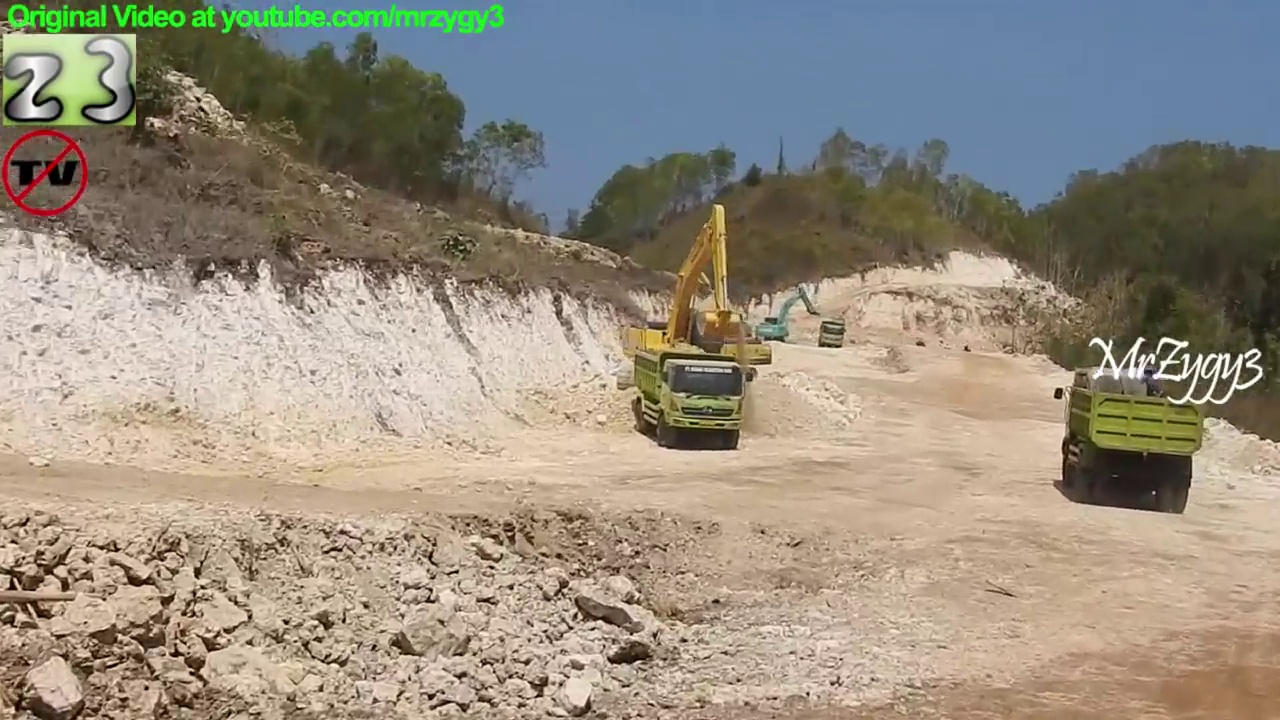excavator: (617, 199, 757, 399), (669, 261, 775, 388), (754, 281, 824, 347)
truck: (1051, 367, 1212, 517), (629, 345, 758, 450), (816, 317, 848, 351)
